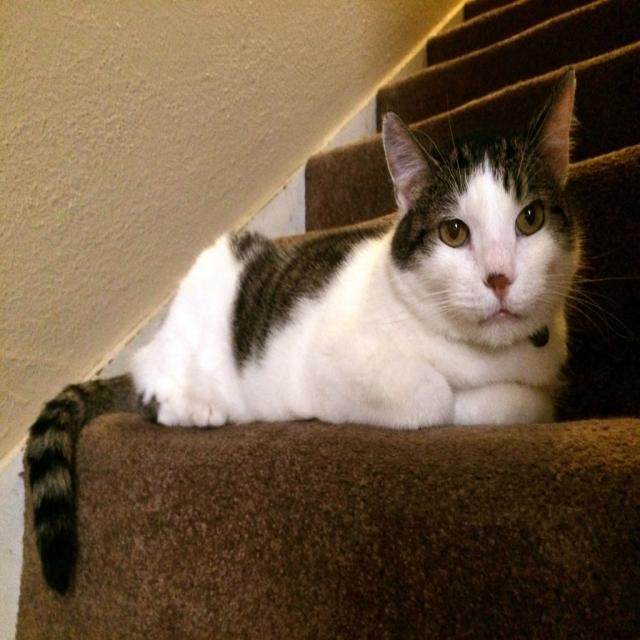Cat: (26, 66, 639, 596)
